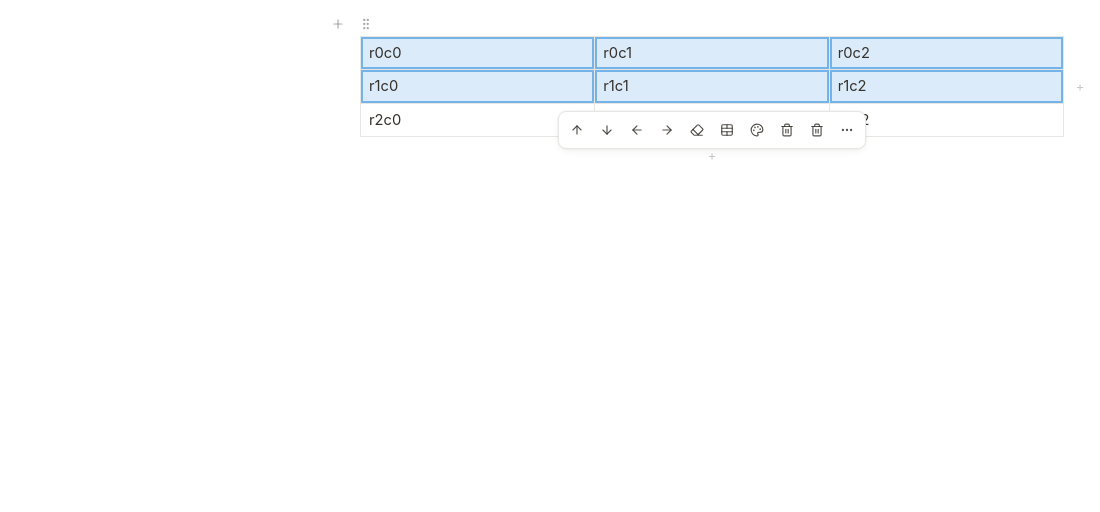
it: range-aware cell context menu (TBL-6) › a 2×3 selection + a right-click INSIDE it opens the range menu
Press the mouse on the cell with class "obe-cell-selected" showing "r1c1" at point(712, 86), box [595, 70, 829, 103]
Right-click the cell with class "obe-cell-selected" showing "r1c1" at point(712, 86), box [595, 70, 829, 103]
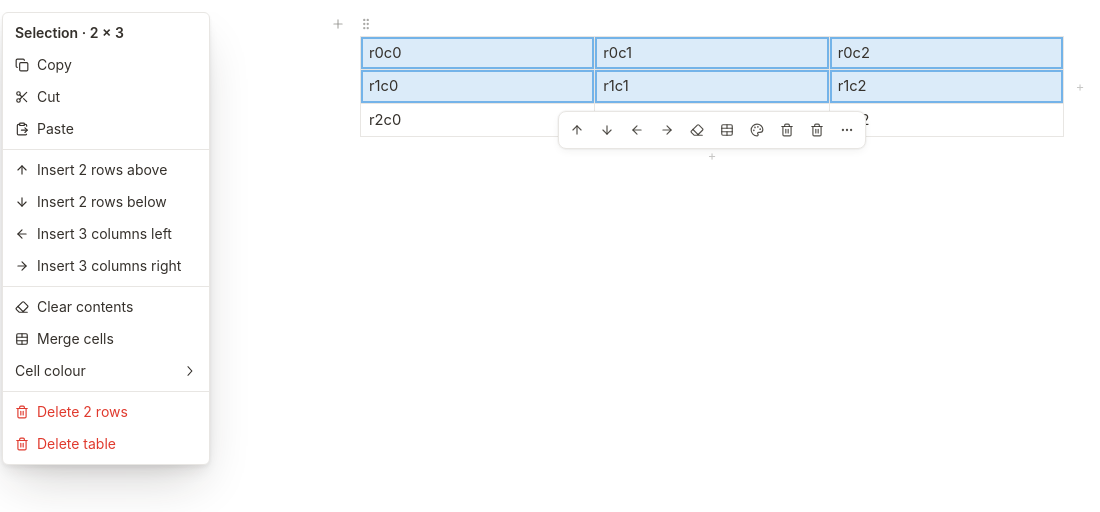
expect the text "Selection · 2 × 3" is shown: met, box [15, 24, 124, 41]
expect the menu item "Clear contents" is shown: met, box [15, 298, 133, 315]
expect the menu item "Delete 2 rows" is shown: met, box [15, 403, 128, 420]
